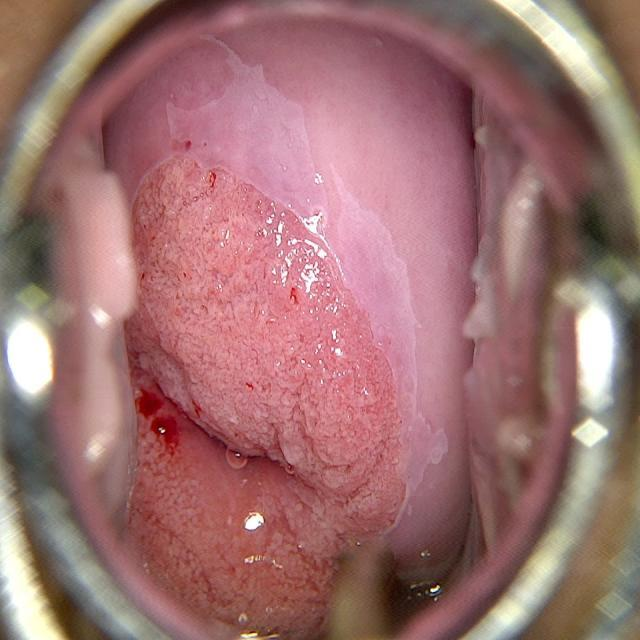cervical_lesion: (124, 164, 401, 640)
